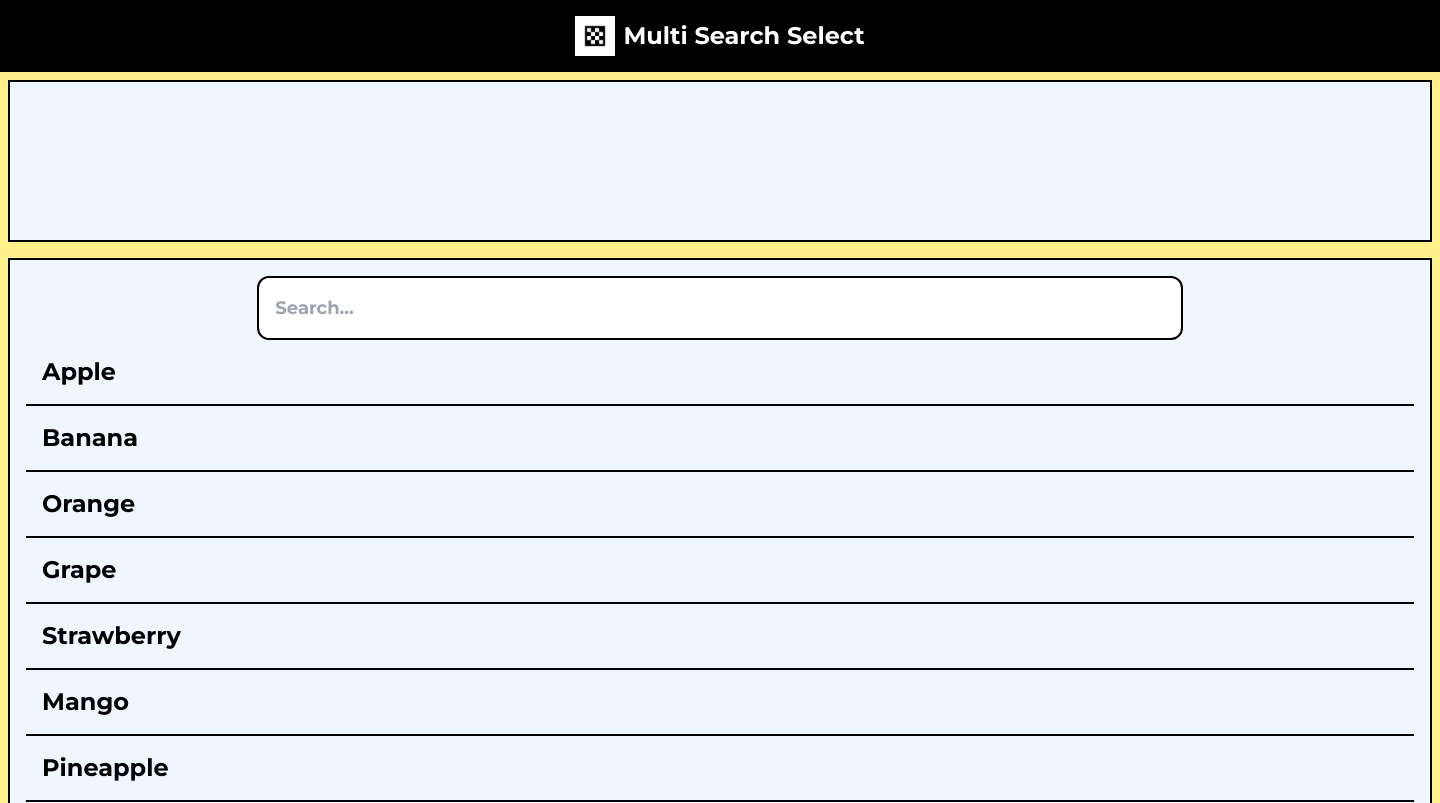
<MultiSearchSelect /> › should render search bar and suggestions
The image size is (1440, 803).
Expected: the search field named "search fruits" is shown, [257,276,1183,340]
Click the button "Mango". click: click(85, 702)
box: [26,670,1414,736]
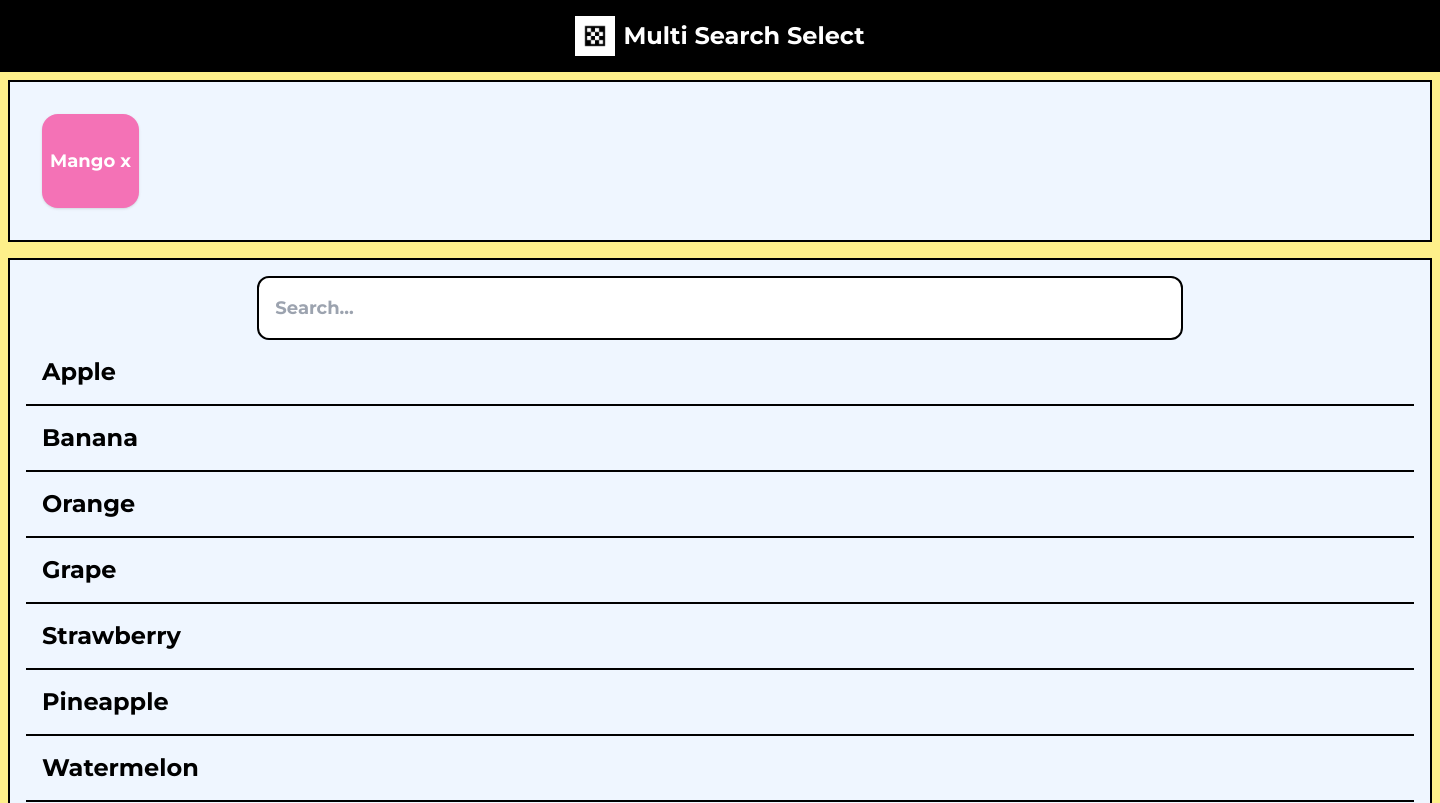
Result: the button "Mango x" is shown at [42,114,139,208]
